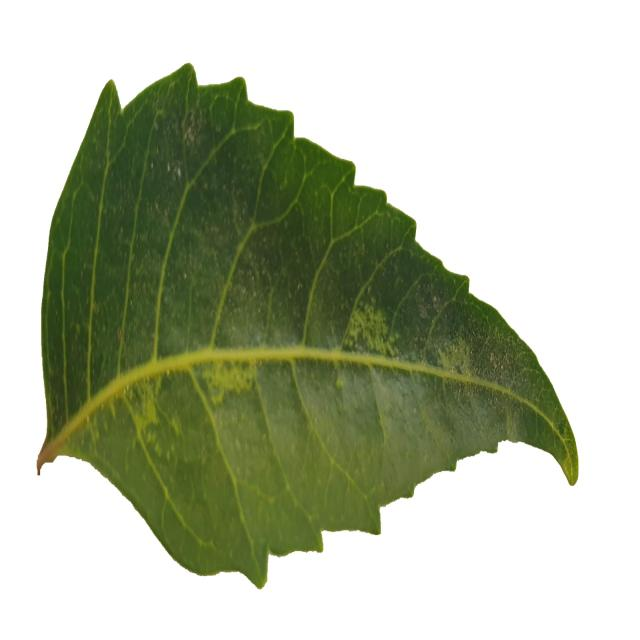Medicinal-Neem: (28, 54, 579, 588)
